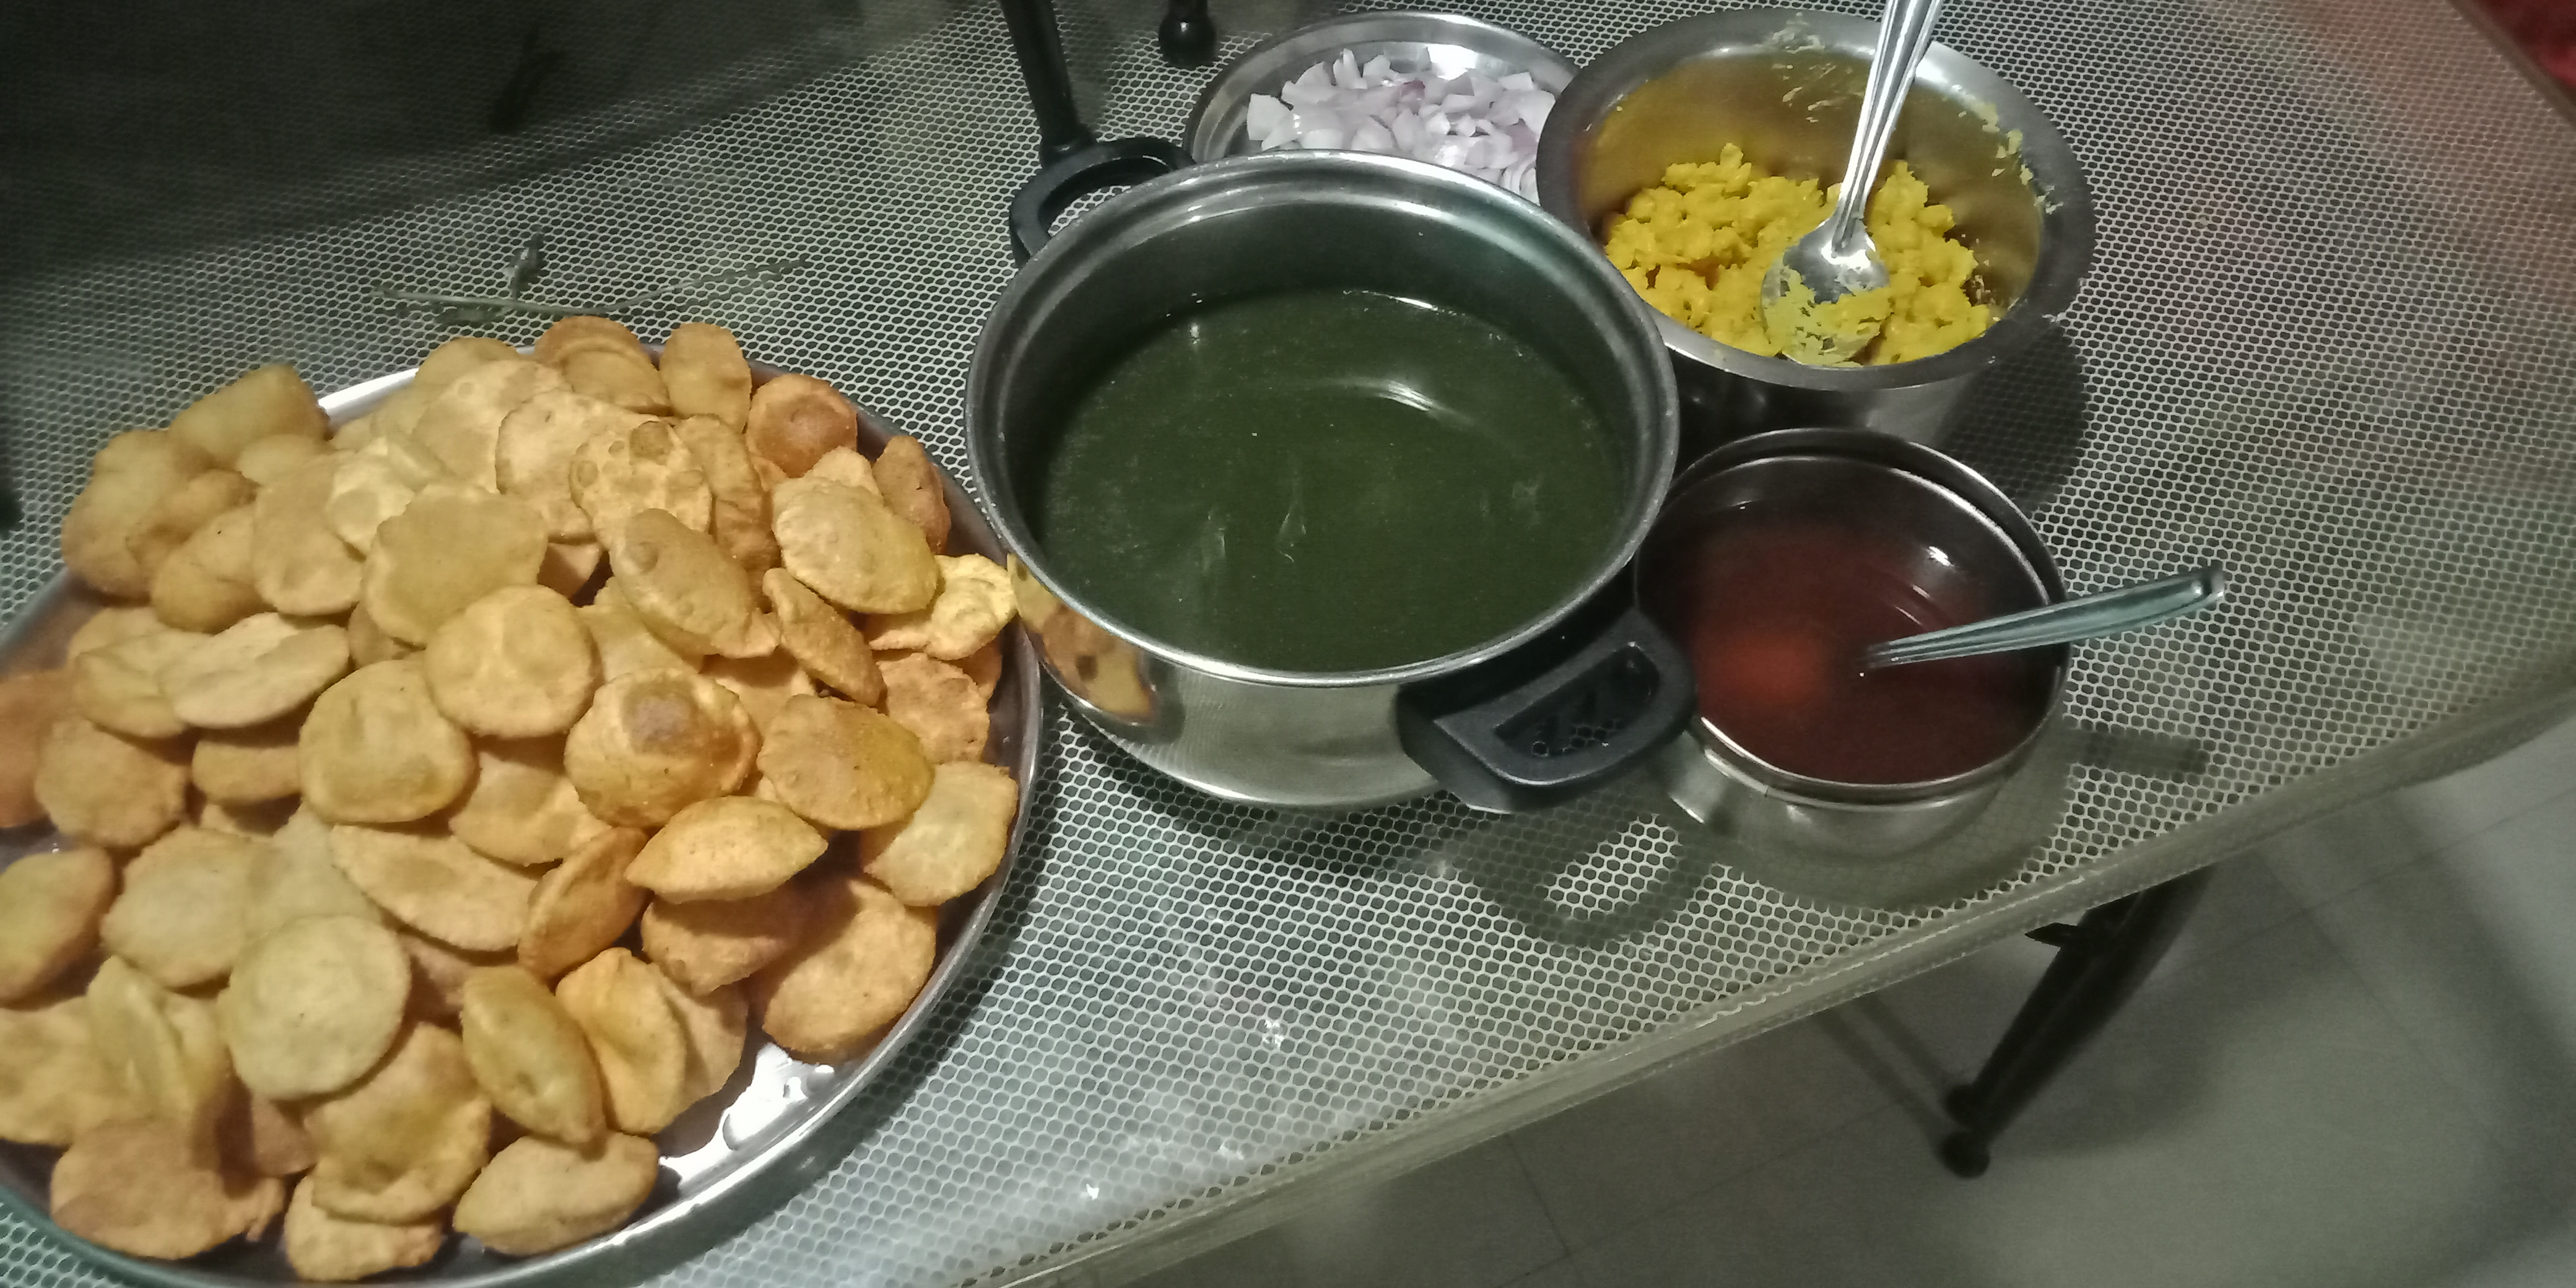food: (0, 306, 1035, 1288), (1015, 174, 1646, 675), (1651, 488, 2073, 792), (1566, 133, 2024, 365), (1232, 36, 1561, 200)
